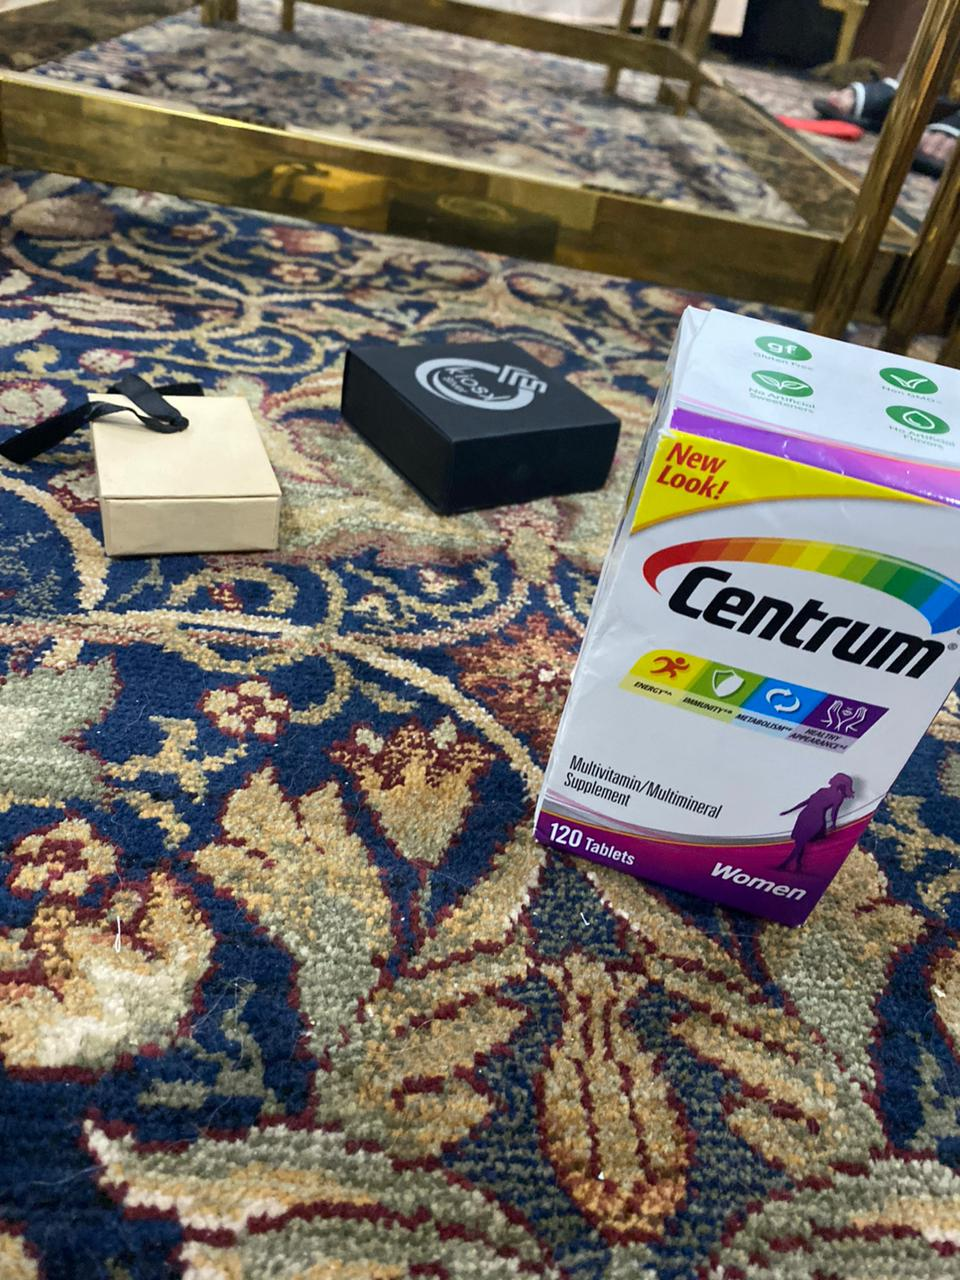Centrum: (536, 301, 960, 931)
Red Box: (336, 337, 620, 518)
Yellow Box: (78, 387, 293, 568)
